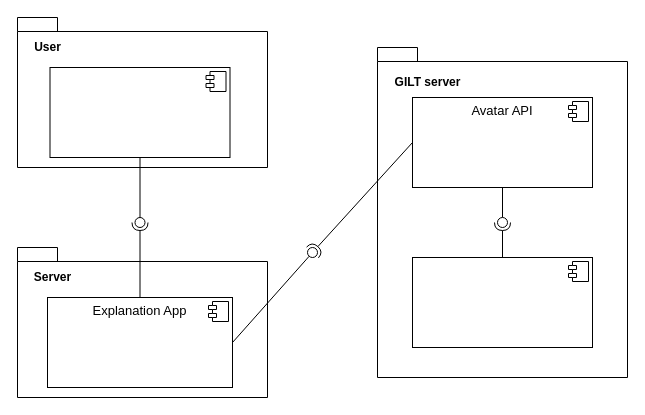
The diagram is 645 pixels wide and 415 high, and some of its shapes have lost their labels. The shapes that lost their labels are listed below. From the top down, each one's centre as x and y in pixels, then its label:
At (x=139, y=112): "Website".
At (x=502, y=302): "Avatar DB".
